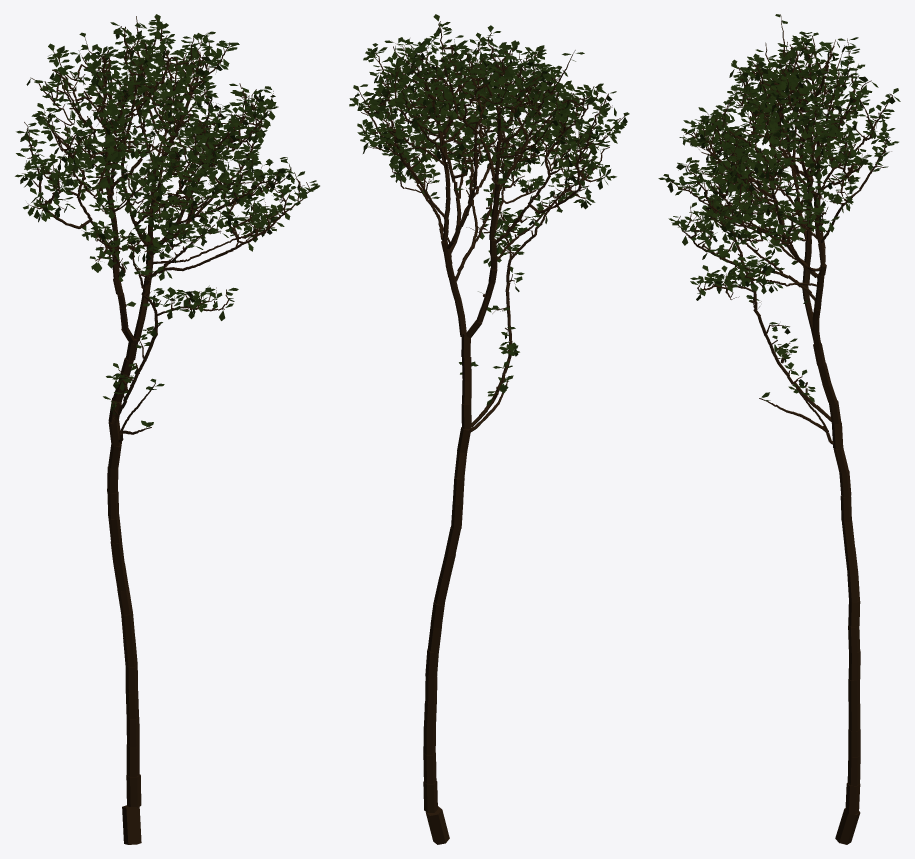
The model's file is tree_24.obj.
3 views of the same model, side by side, from view 1: azimuth 30°, elevation 25°; view 2: azimuth 150°, elevation 25°; view 3: azimuth 270°, elevation 25° (orthographic). The views are drawn at different scales.
Visible parts, largest first — view 1: Leaves, TrunkAndBranches; view 2: Leaves, TrunkAndBranches; view 3: Leaves, TrunkAndBranches.
Part boxes in pixels (x1,y1,x2,y2): Leaves: [15, 14, 319, 427]; TrunkAndBranches: [22, 16, 309, 844]; Leaves: [349, 14, 629, 405]; TrunkAndBranches: [357, 21, 625, 844]; Leaves: [658, 14, 900, 402]; TrunkAndBranches: [668, 14, 892, 844].
Size of the model in its own units: 8.03 by 23.83 by 6.71.
